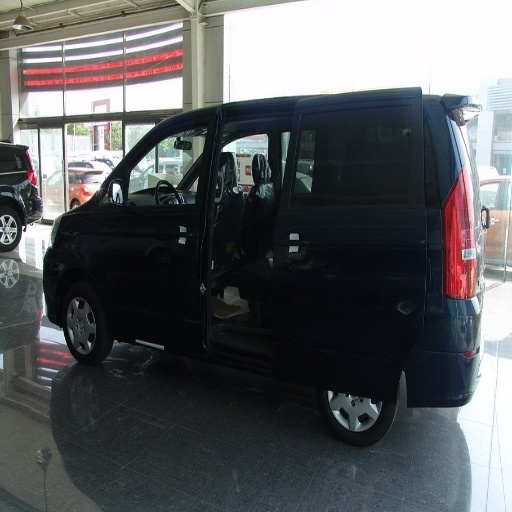trunk: (267, 163, 463, 371)
